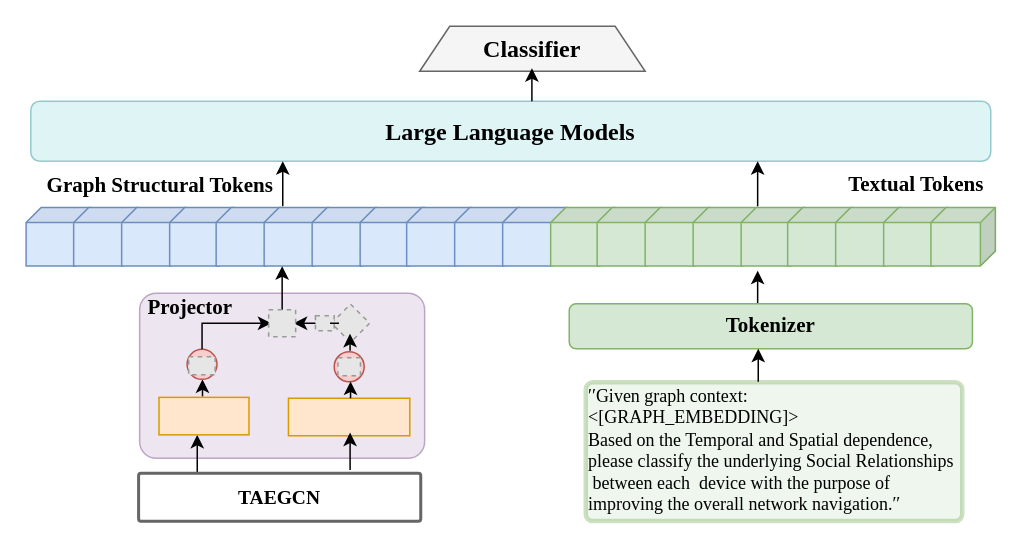
This 1025x552 diagram has some shape labels left out. Grey dashed boxes stand in for pictures. The shapes that lost their labels are listed below. From the top down, each one's centre as x and y in pixels, then its label:
At (203,415): "Base Gate".
At (348,416): "Structure Gate".
